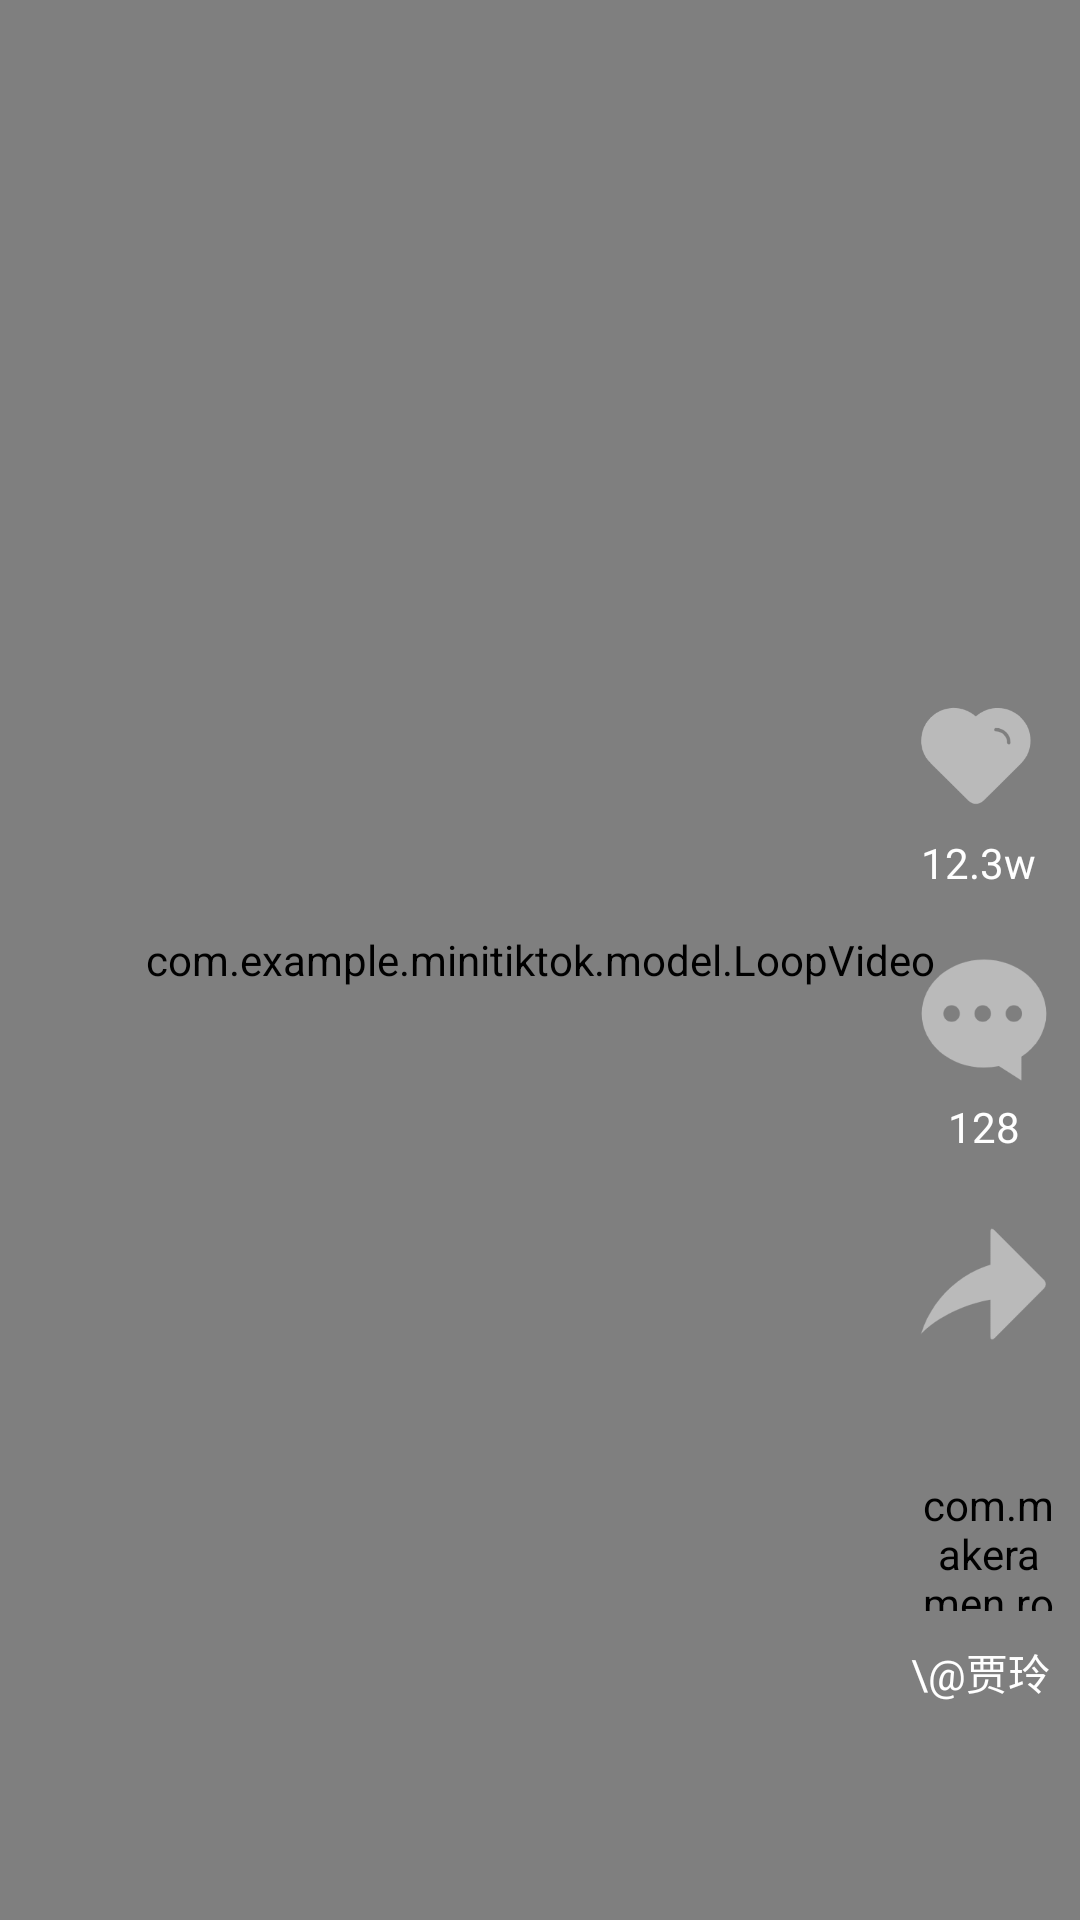

Icon bounding boxes for this 1080x1920 phone screenshot, format (x1, y1, x2, y2):
comment: (913, 953, 1046, 1080)
like: (921, 708, 1031, 804)
share: (921, 1229, 1046, 1339)
